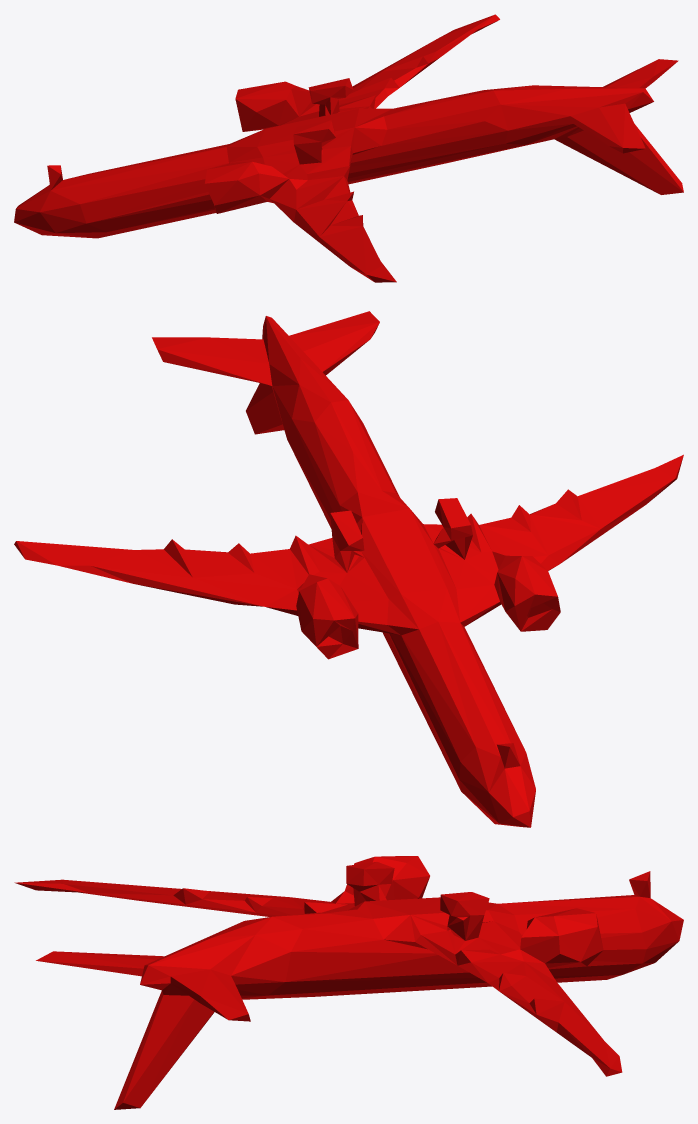
3 renders of one model, top to bottom at view 1: azimuth 30°, elevation 25°; view 2: azimuth 150°, elevation 25°; view 3: azimuth 270°, elevation 25°, orthographic. The views are drawn at different scales.
Size of the model in its own units: 4871 by 1790 by 4479.
